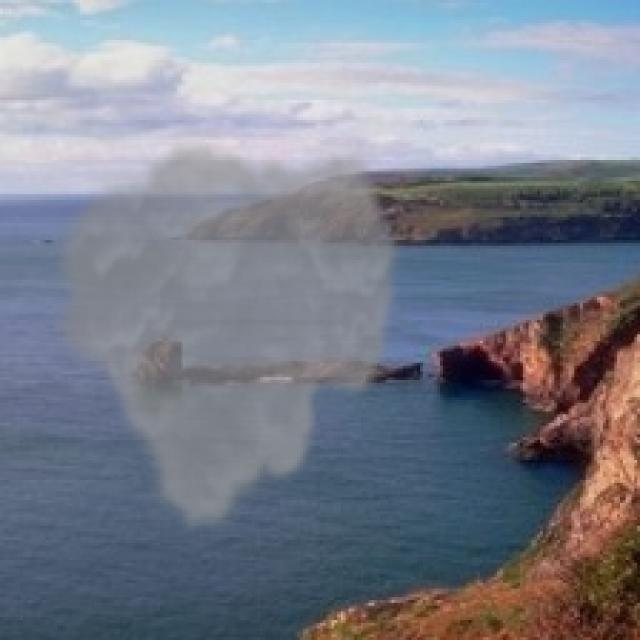smoke: (46, 137, 406, 540)
